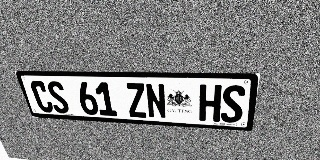1: (93, 82, 117, 116)
6: (75, 82, 100, 115)
C: (29, 81, 55, 113)
H: (199, 84, 222, 122)
N: (145, 83, 167, 119)
S: (220, 85, 246, 123), (45, 81, 71, 114)
Z: (125, 83, 148, 118)
